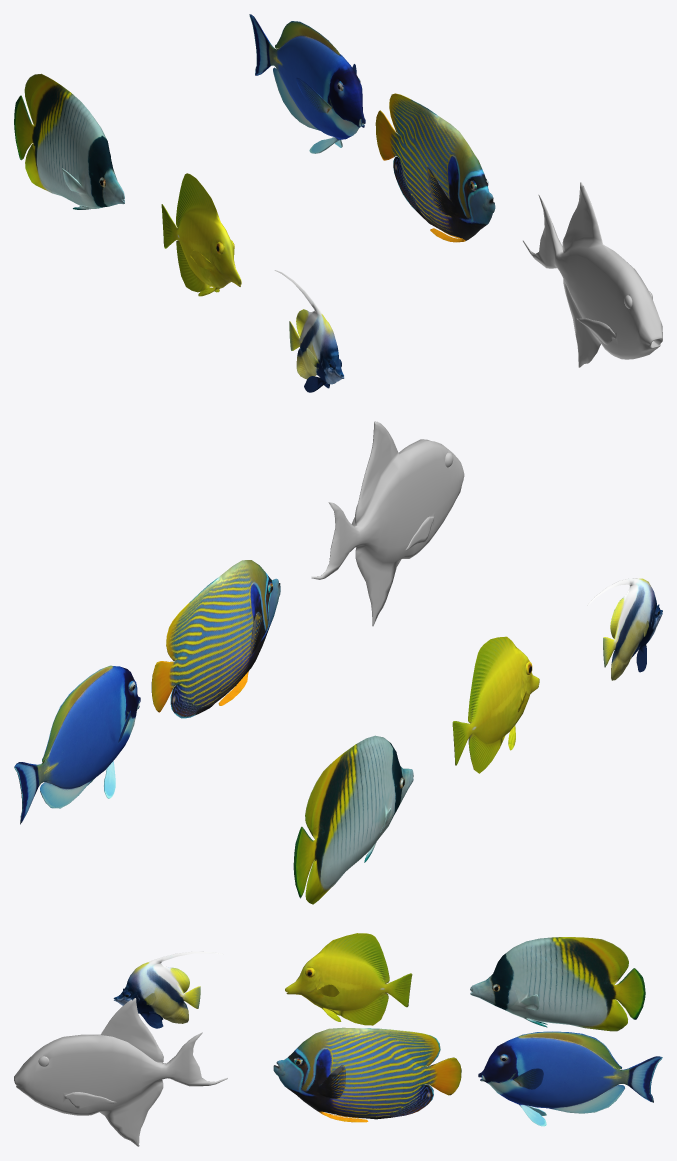
The model's file is fishCollection_edit_for_FBX.fbx.
3 views of the same model, one above another, from view 1: azimuth 30°, elevation 25°; view 2: azimuth 150°, elevation 25°; view 3: azimuth 270°, elevation 25° (orthographic). The views are drawn at different scales.
Visible parts, largest first — view 1: fishCollection_04, fishCollection_05, fishCollection_03, fishCollection_06, fishCollection_02, fishCollection_01; view 2: fishCollection_04, fishCollection_05, fishCollection_03, fishCollection_06, fishCollection_02, fishCollection_01; view 3: fishCollection_04, fishCollection_05, fishCollection_03, fishCollection_06, fishCollection_02, fishCollection_01.
Part boxes in pixels (x1=…): fishCollection_04: x1=523, y1=182, x2=662, y2=367; fishCollection_05: x1=375, y1=93, x2=495, y2=242; fishCollection_03: x1=14, y1=73, x2=124, y2=209; fishCollection_06: x1=249, y1=14, x2=365, y2=153; fishCollection_02: x1=161, y1=173, x2=241, y2=296; fishCollection_01: x1=274, y1=270, x2=344, y2=392; fishCollection_04: x1=311, y1=421, x2=464, y2=626; fishCollection_05: x1=151, y1=560, x2=280, y2=718; fishCollection_03: x1=293, y1=735, x2=413, y2=904; fishCollection_06: x1=14, y1=665, x2=140, y2=824; fishCollection_02: x1=452, y1=636, x2=539, y2=773; fishCollection_01: x1=587, y1=578, x2=662, y2=680; fishCollection_04: x1=14, y1=998, x2=227, y2=1146; fishCollection_05: x1=273, y1=1027, x2=461, y2=1122; fishCollection_03: x1=470, y1=937, x2=645, y2=1031; fishCollection_06: x1=478, y1=1031, x2=662, y2=1126; fishCollection_02: x1=285, y1=933, x2=412, y2=1025; fishCollection_01: x1=113, y1=951, x2=223, y2=1028.
Bounding box in the file's own units: 3327 × 2008 × 7947.
